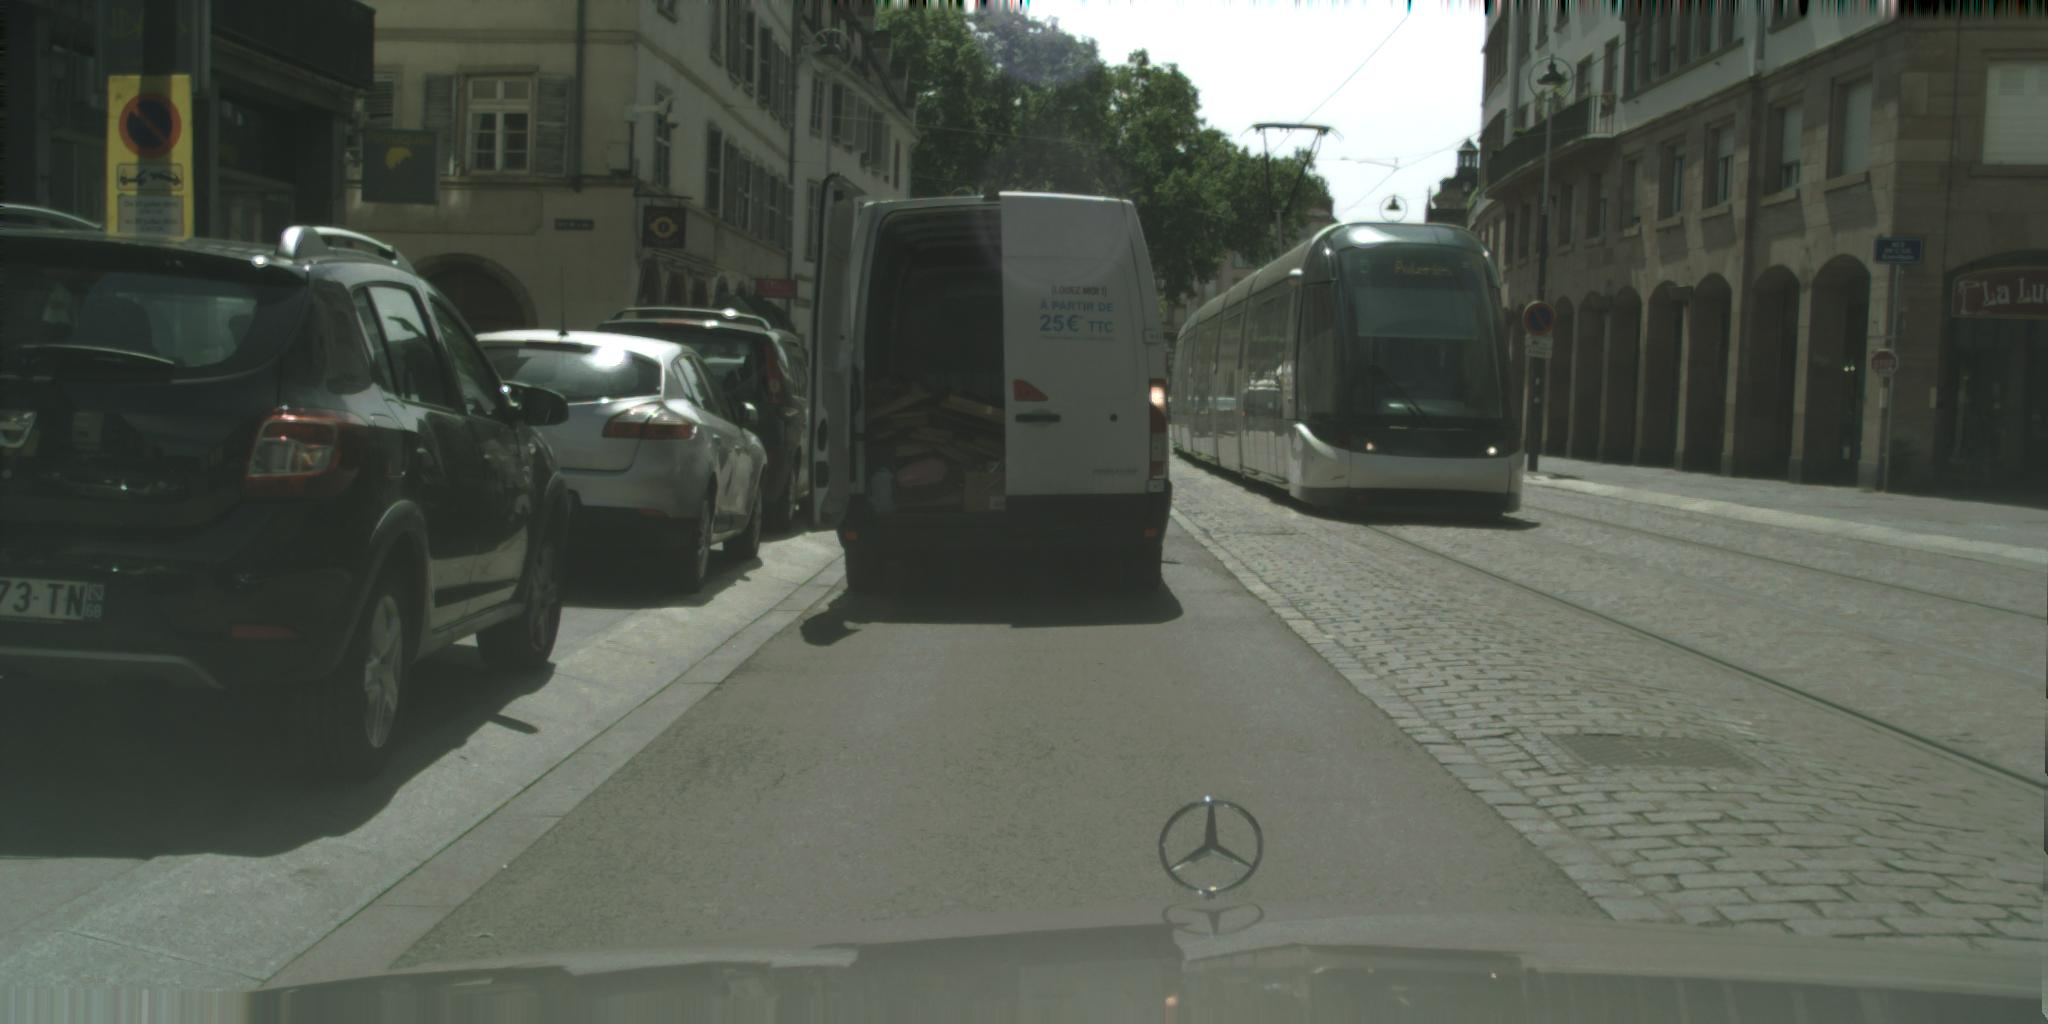car: (1, 202, 571, 781), (807, 174, 1173, 594), (413, 329, 769, 594), (586, 307, 831, 534)
train: (1172, 124, 1526, 521)
